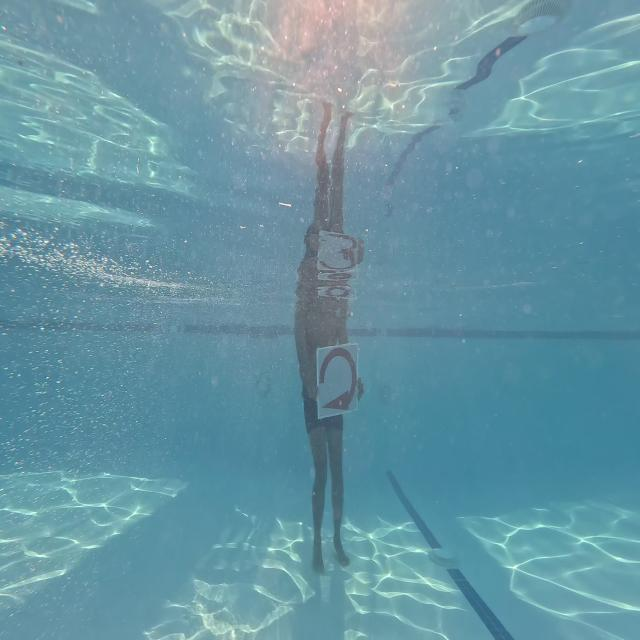red_side: (305, 324, 368, 424)
